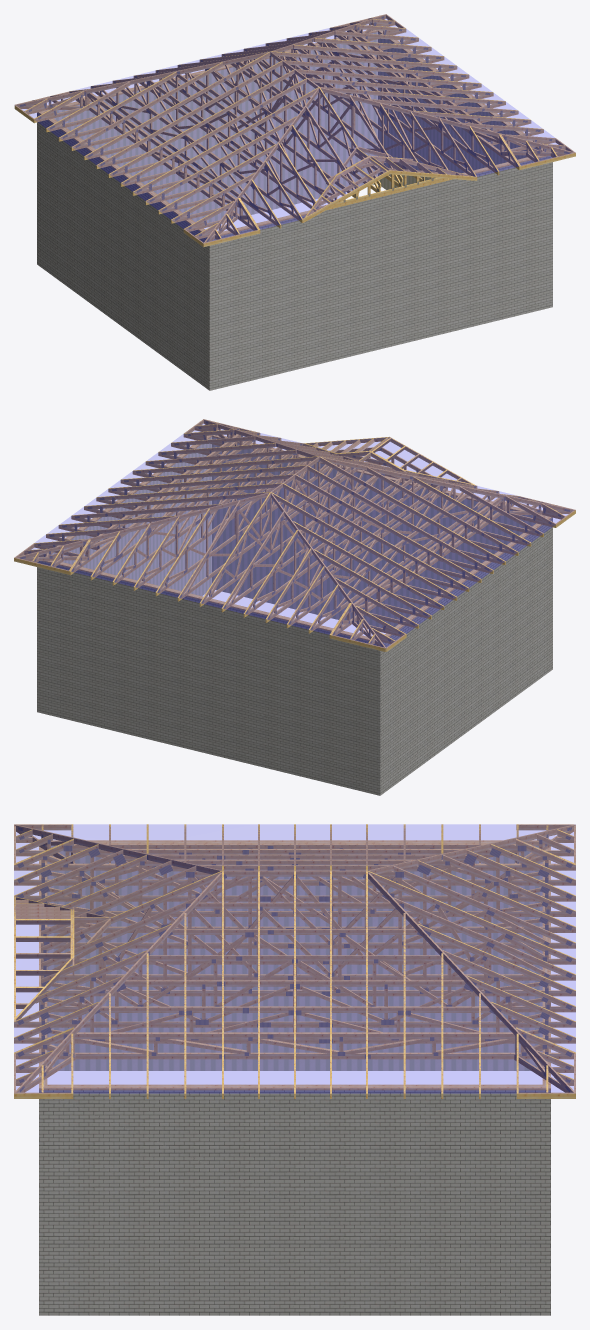
3 renders of one model, top to bottom at view 1: azimuth 30°, elevation 25°; view 2: azimuth 150°, elevation 25°; view 3: azimuth 270°, elevation 25°, orthographic. The views are drawn at different scales.
Visible parts, largest first — view 1: skfb_offset; view 2: skfb_offset; view 3: skfb_offset.
Boxes of the visible parts, <box> form: skfb_offset: <box>14,14,575,390</box>; skfb_offset: <box>14,419,575,795</box>; skfb_offset: <box>14,824,575,1315</box>.
Size of the model in its own units: 15240 by 8470 by 13440.
Materials: 6 (5 with a texture image).
